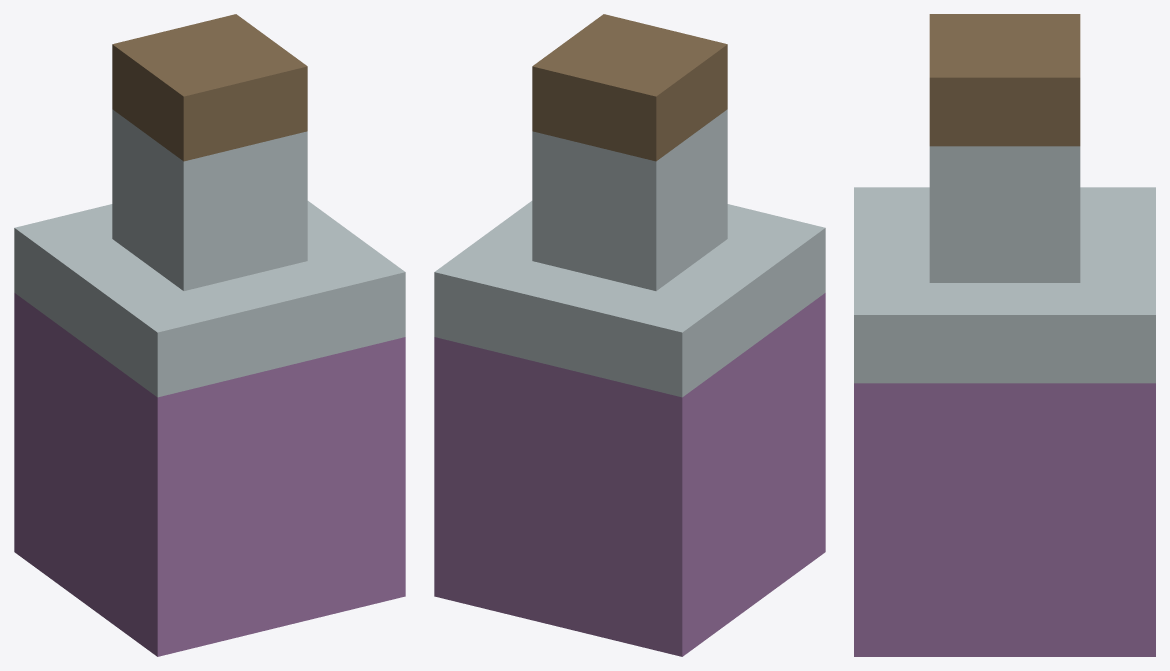
The model's file is pocion_alquimica_inestable_01.glb.
The picture shows the model from 3 angles, left to right: view 1: azimuth 30°, elevation 25°; view 2: azimuth 150°, elevation 25°; view 3: azimuth 270°, elevation 25°; orthographic projection. The views are drawn at different scales.
Visible parts, largest first — view 1: pocion_alquimica_inestable; view 2: pocion_alquimica_inestable; view 3: pocion_alquimica_inestable.
Part boxes in pixels (left/top/right/bottom): pocion_alquimica_inestable: left=14, top=14, right=405, bottom=656; pocion_alquimica_inestable: left=434, top=14, right=825, bottom=656; pocion_alquimica_inestable: left=854, top=14, right=1155, bottom=656.
Bounding box in the file's own units: 0.3333 × 0.6667 × 0.3333.
